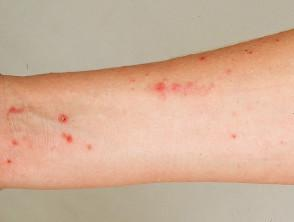Eczema: (150, 76, 214, 99), (192, 53, 218, 70), (7, 136, 24, 156), (10, 105, 30, 120), (56, 109, 70, 130), (60, 134, 78, 148)
